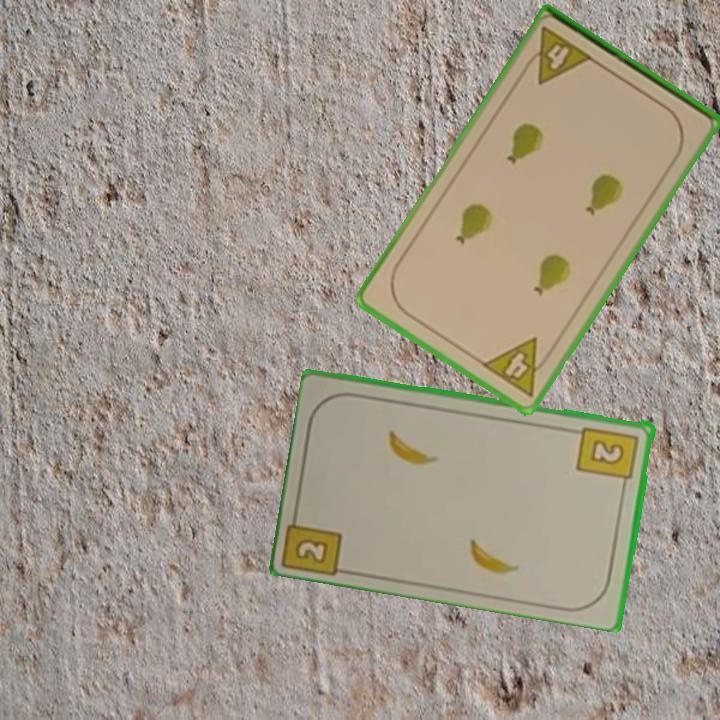2b: (574, 422, 642, 491), (282, 503, 346, 576)
4p: (478, 334, 557, 400), (519, 23, 596, 88)
